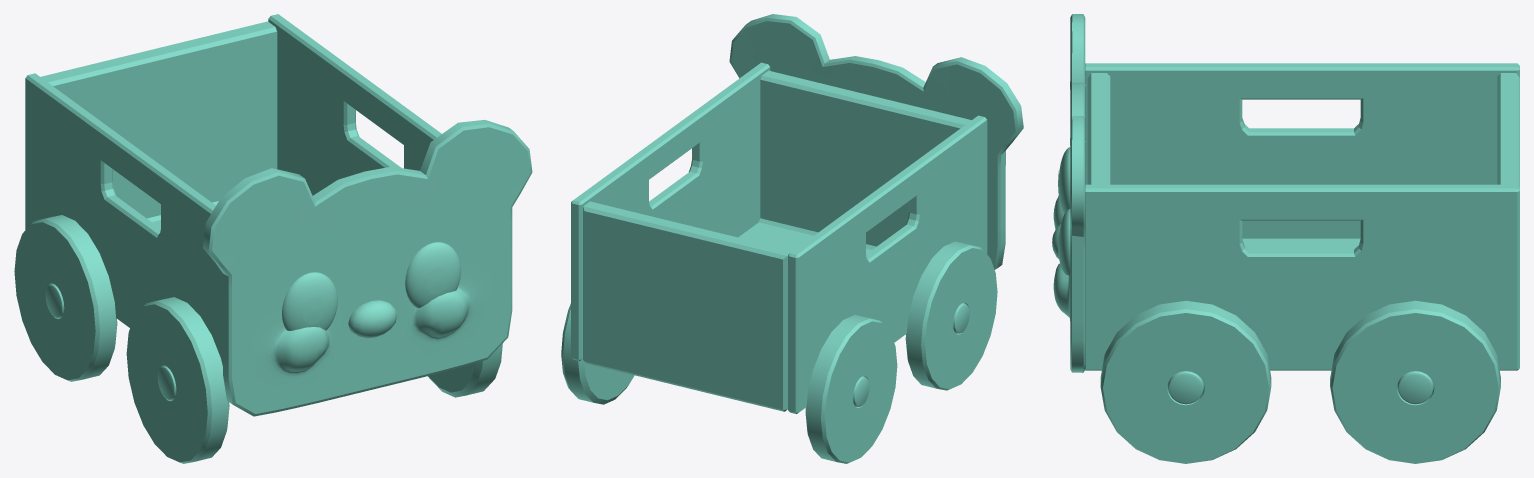
The model's file is SM_FaceToyCartA2.fbx.
The picture shows the model from 3 angles, left to right: view 1: azimuth 30°, elevation 25°; view 2: azimuth 150°, elevation 25°; view 3: azimuth 270°, elevation 25°; orthographic projection. The views are drawn at different scales.
Parts seen in each view (by area): view 1: SM_FaceToyCartA2; view 2: SM_FaceToyCartA2; view 3: SM_FaceToyCartA2.
Boxes of the visible parts, x1=… form: SM_FaceToyCartA2: x1=14, y1=14, x2=532, y2=463; SM_FaceToyCartA2: x1=561, y1=14, x2=1023, y2=463; SM_FaceToyCartA2: x1=1052, y1=14, x2=1519, y2=463.
Size of the model in its own units: 0.939 by 0.8703 by 1.15.
